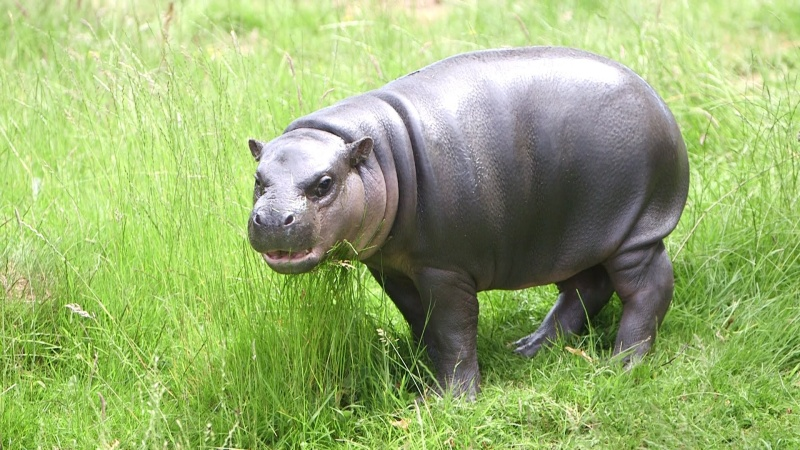hipopotamo: (241, 43, 699, 410)
